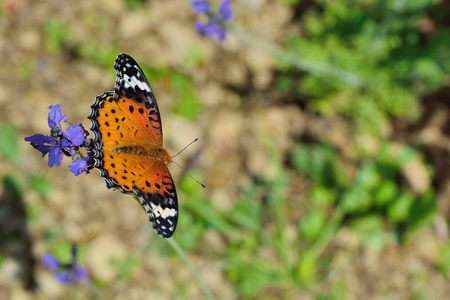Argyreus hyperbius: (86, 46, 207, 242)
butterfly: (88, 48, 209, 244)
